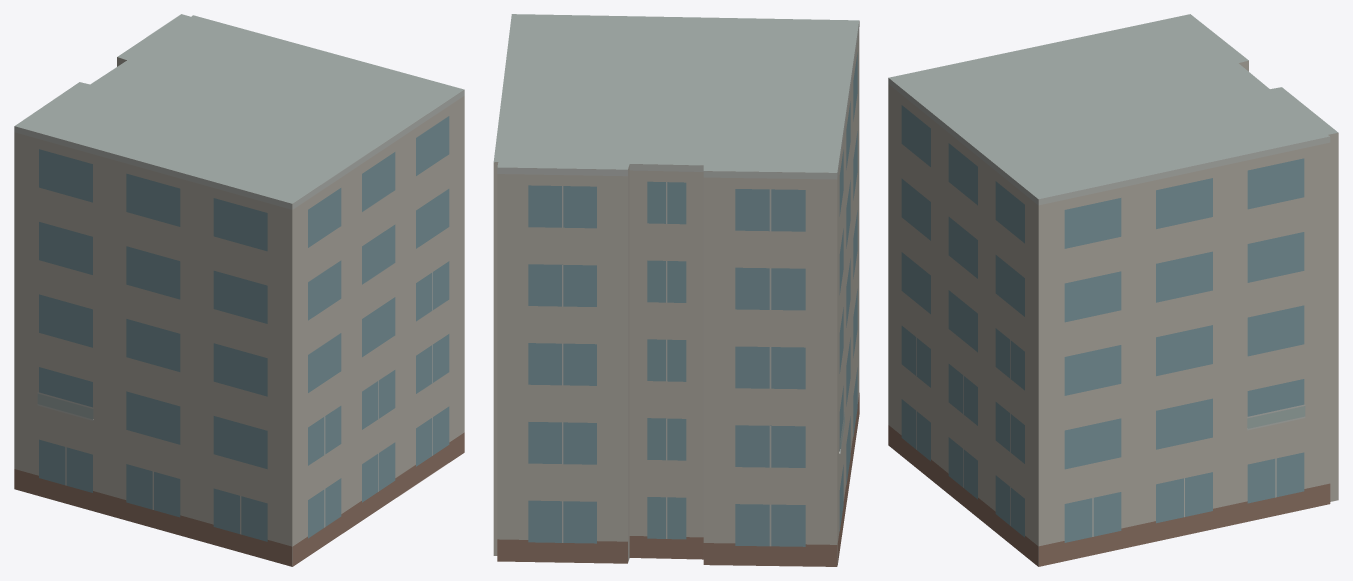
The model's file is survey-upis-32839468.glb.
3 renders of one model, left to right at view 1: azimuth 30°, elevation 25°; view 2: azimuth 150°, elevation 25°; view 3: azimuth 270°, elevation 25°, orthographic. The views are drawn at different scales.
Parts seen in each view (by area): view 1: survey-upis-32839468.tmp; view 2: survey-upis-32839468.tmp; view 3: survey-upis-32839468.tmp.
Part boxes in pixels (x1,y1,x2,y2): survey-upis-32839468.tmp: [14, 14, 464, 566]; survey-upis-32839468.tmp: [493, 14, 859, 566]; survey-upis-32839468.tmp: [888, 14, 1338, 566].
Size of the model in its own units: 15.79 by 14.6 by 16.21.
